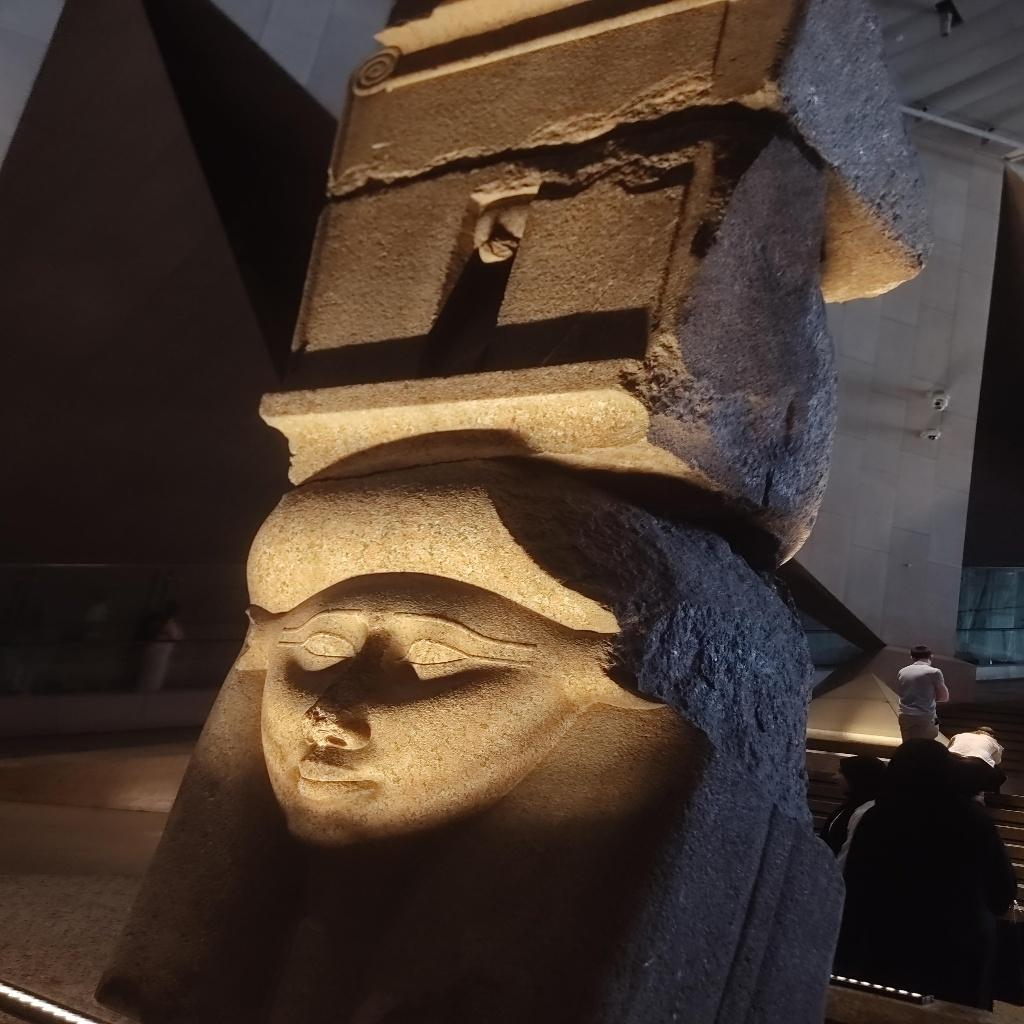Hathor Capital: (168, 0, 882, 845)
